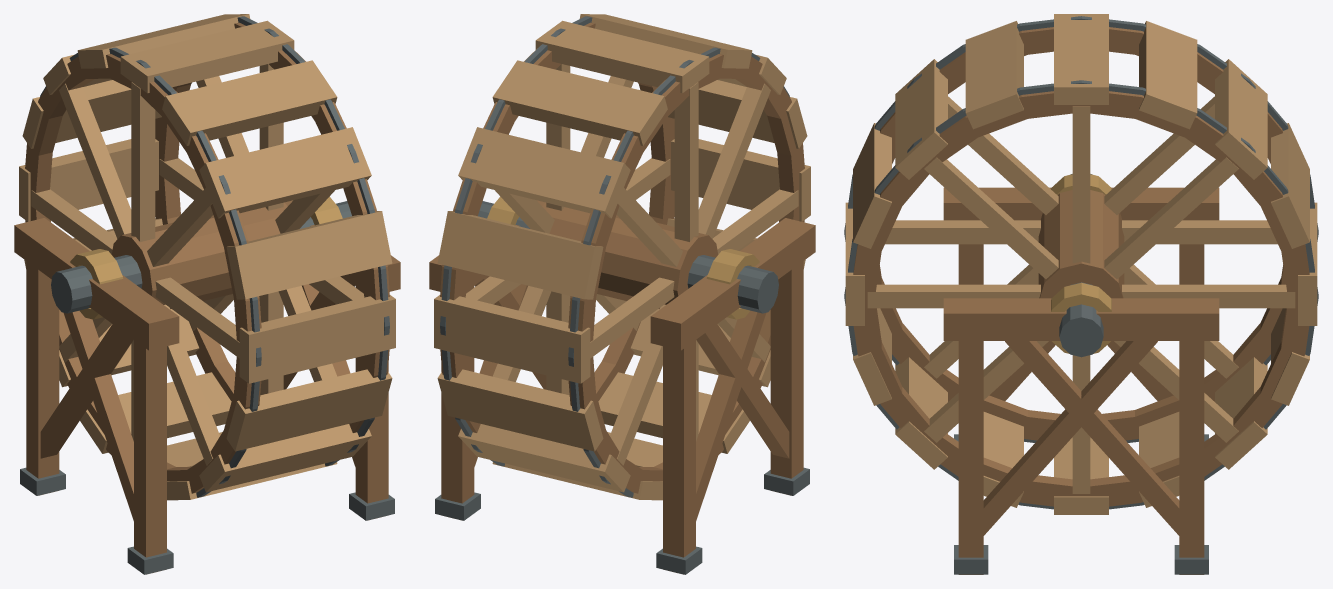
Rendered from vf_water_wheel.glb.
3 views of the same model, side by side, from view 1: azimuth 30°, elevation 25°; view 2: azimuth 150°, elevation 25°; view 3: azimuth 270°, elevation 25° (orthographic). The views are drawn at different scales.
Visible parts, largest first — view 1: Rotor, Static; view 2: Rotor, Static; view 3: Rotor, Static.
Boxes of the visible parts, x1,y1,x2,y2 form: Rotor: (19,14,395,500); Static: (14,196,400,574); Rotor: (434,14,810,500); Static: (429,196,815,574); Rotor: (844,14,1318,514); Static: (943,174,1219,574).
Size of the model in its own units: 2.5 by 3.72 by 3.44.
